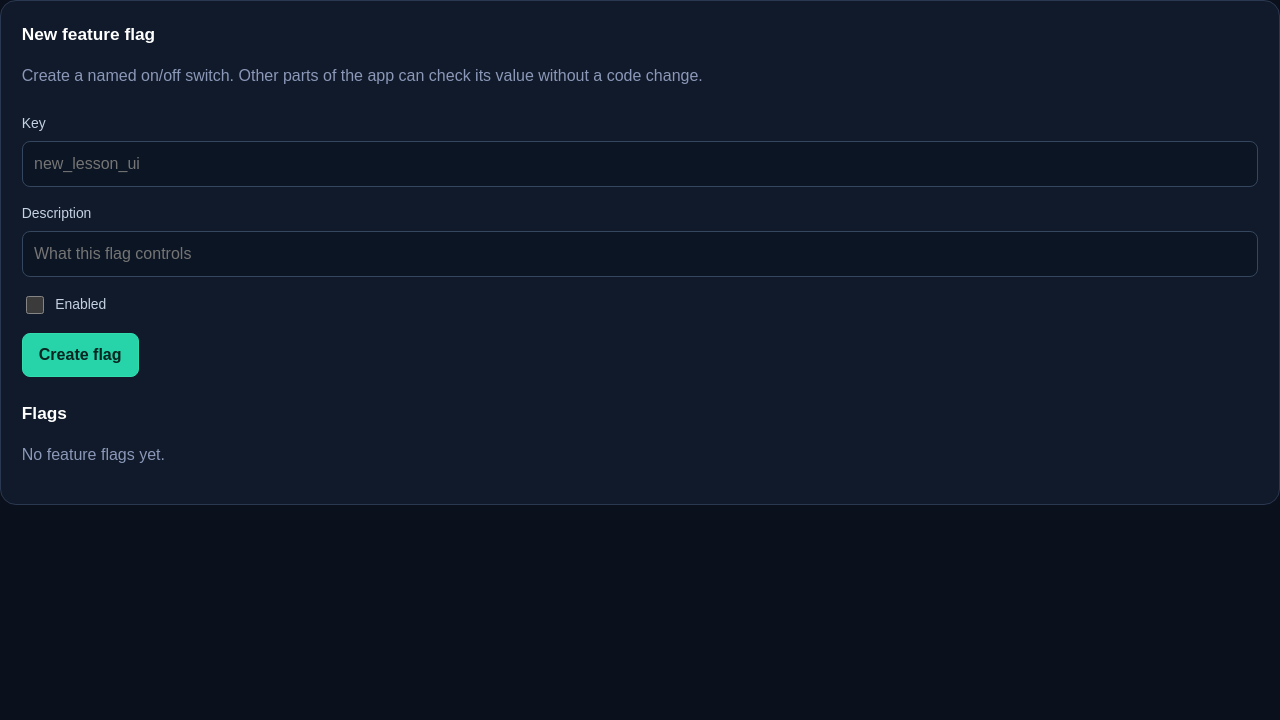
FeatureFlagsManager › surfaces a failed save as an alert
The image size is (1280, 720).
Type "new_flag" into the field labelled "Key" at (640, 164), box [22,141,1258,187]
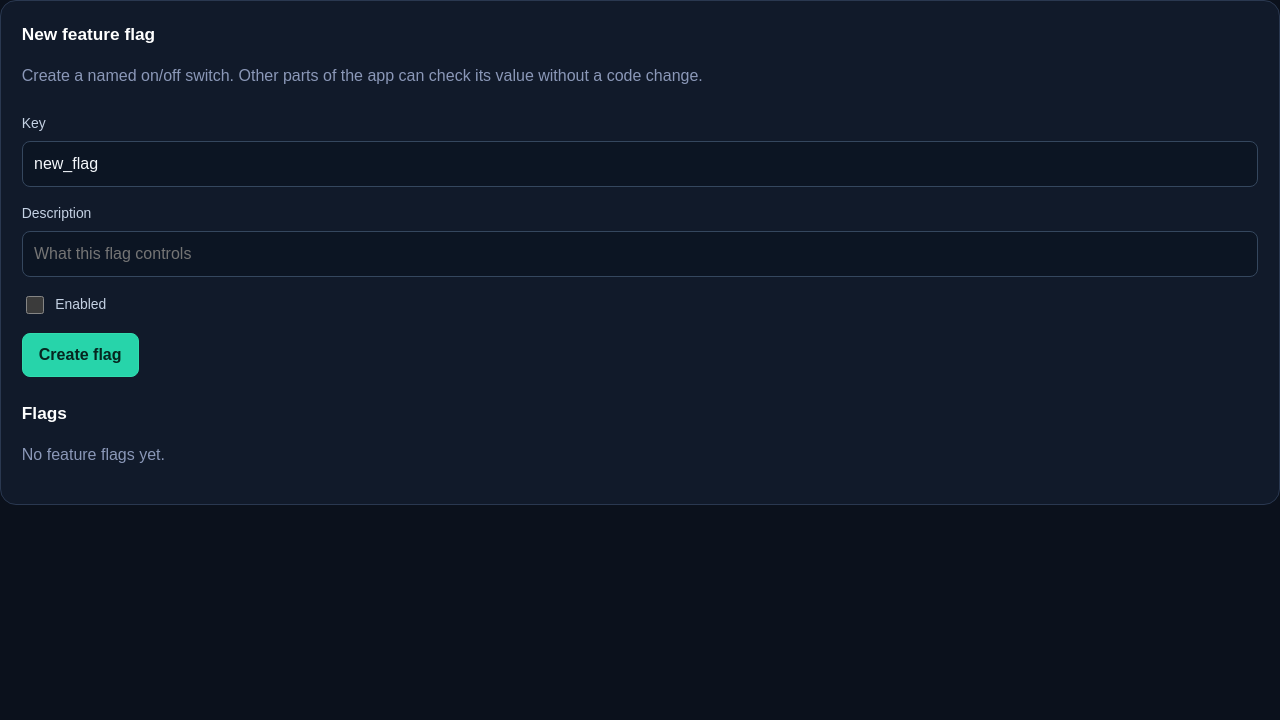
Click the button "Create flag" at (80, 355), box [22,333,138,377]
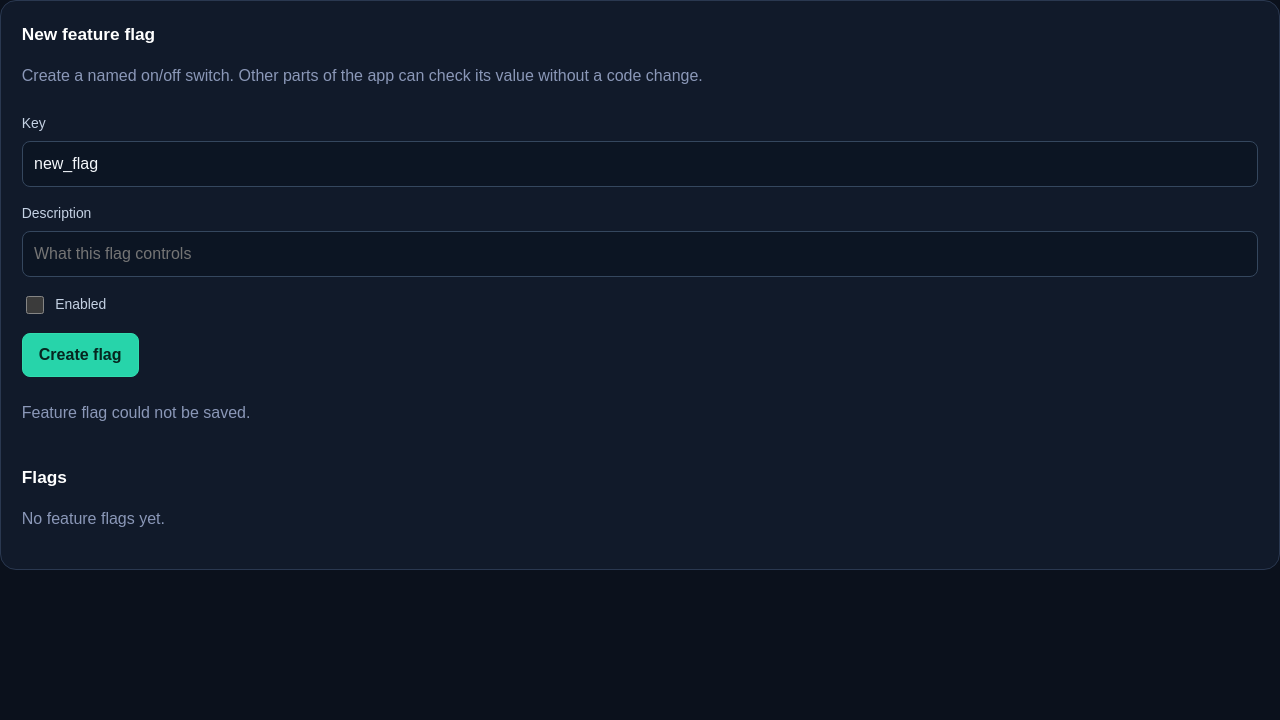
Check: the message shows "could not be saved", box [22,404,250,421]
